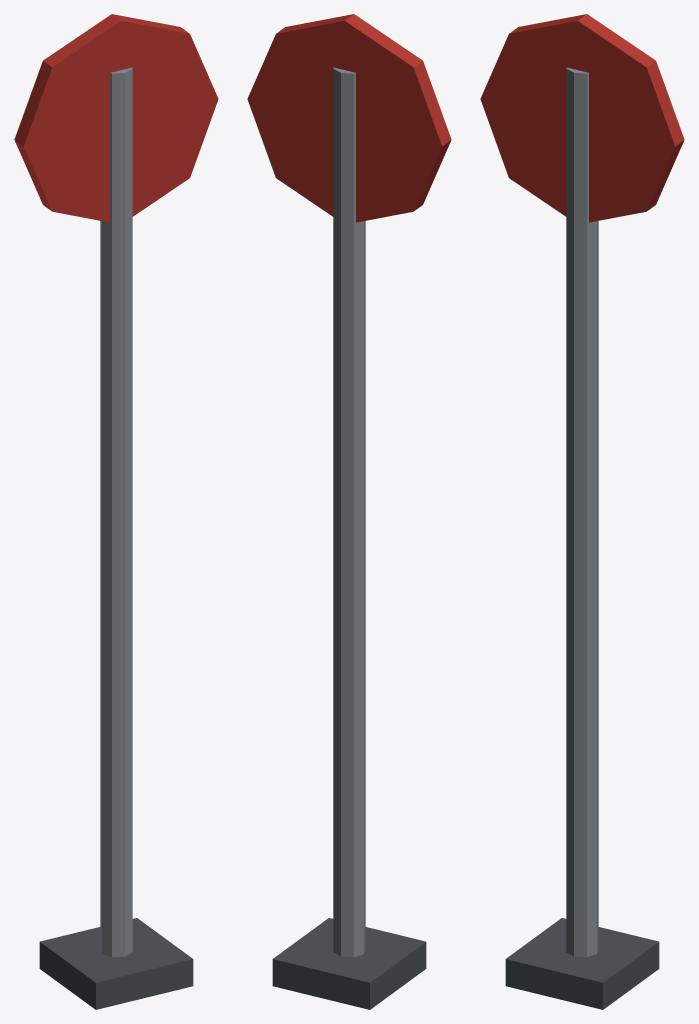
Rendered from prop.stop-sign.glb.
3 renders of one model, left to right at view 1: azimuth 30°, elevation 25°; view 2: azimuth 150°, elevation 25°; view 3: azimuth 330°, elevation 25°, orthographic.
Parts seen in each view (by area): view 1: prop.stop-sign; view 2: prop.stop-sign; view 3: prop.stop-sign.
Part boxes in pixels (x1,y1,x2,y2): prop.stop-sign: (14,14,218,1009); prop.stop-sign: (247,14,451,1009); prop.stop-sign: (480,14,684,1009).
Bounding box in the file's own units: 0.6 × 2.83 × 0.3.
